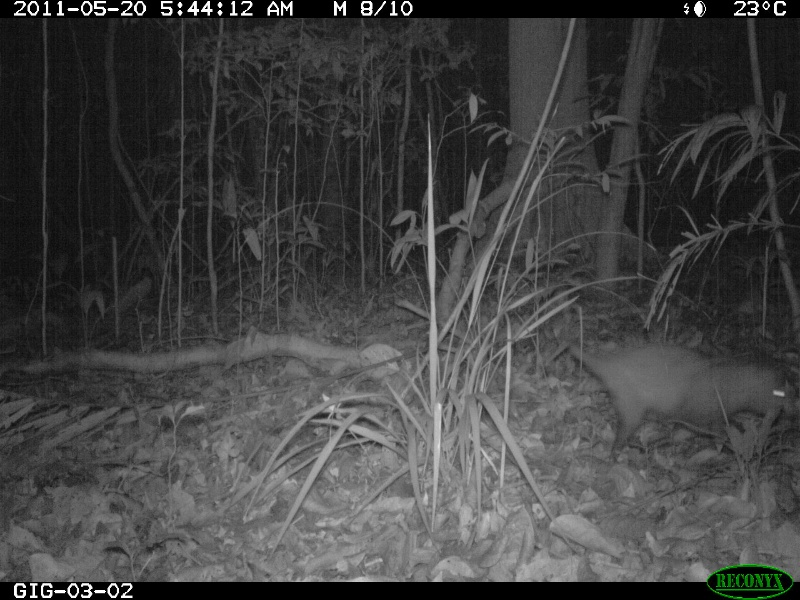opossum: (546, 341, 795, 458)
